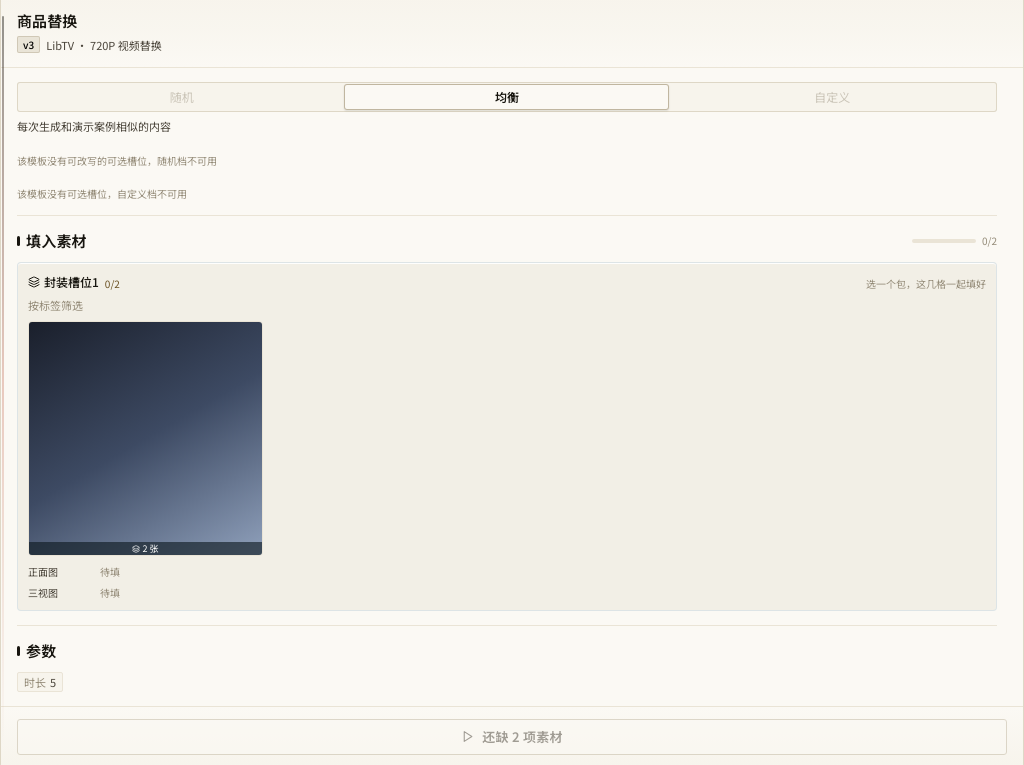
Test: 模板库 · 点封装包填多格 › 点一次包，两个槽位各拿到自己那一张
The image size is (1024, 765).
(page scrolled)
Click the button titled "6036 黑（封装 · 2 张）" at (146, 439), box x1=28 y1=321 x2=263 y2=556
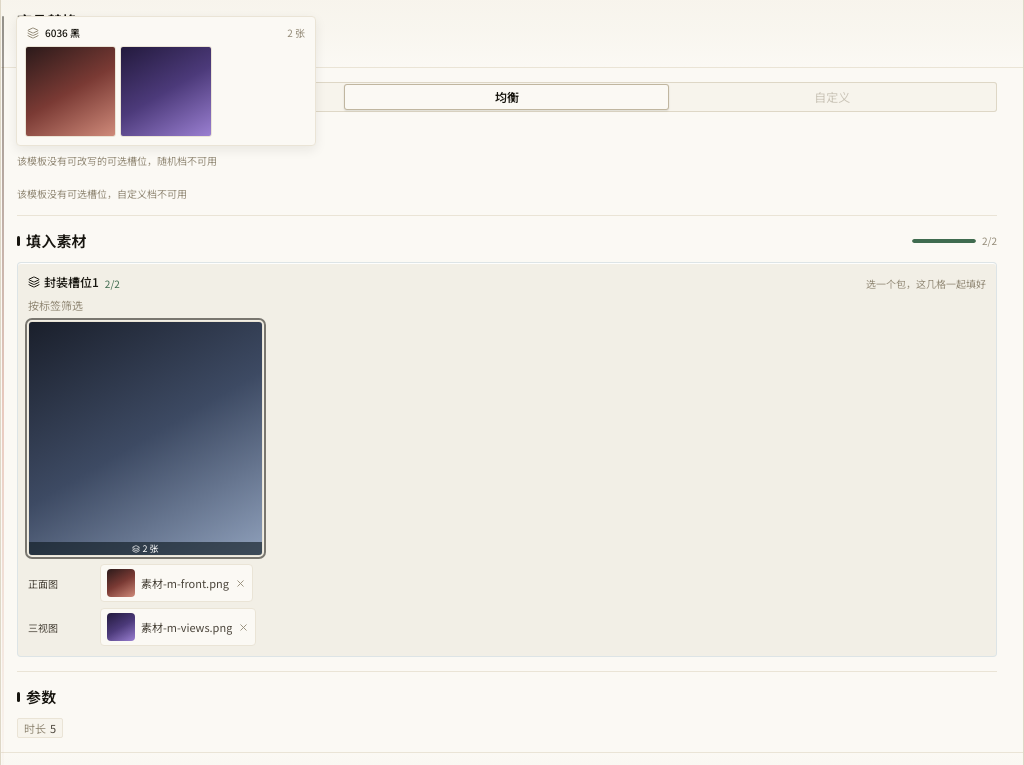
Result: the text "素材-m-front.png" is shown at x1=141 y1=575 x2=229 y2=591
Result: the text "素材-m-views.png" is shown at x1=141 y1=619 x2=232 y2=635
